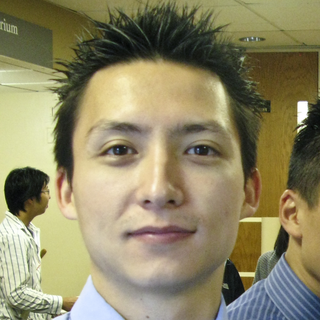eye: (175, 136, 229, 167), (94, 138, 141, 167)
